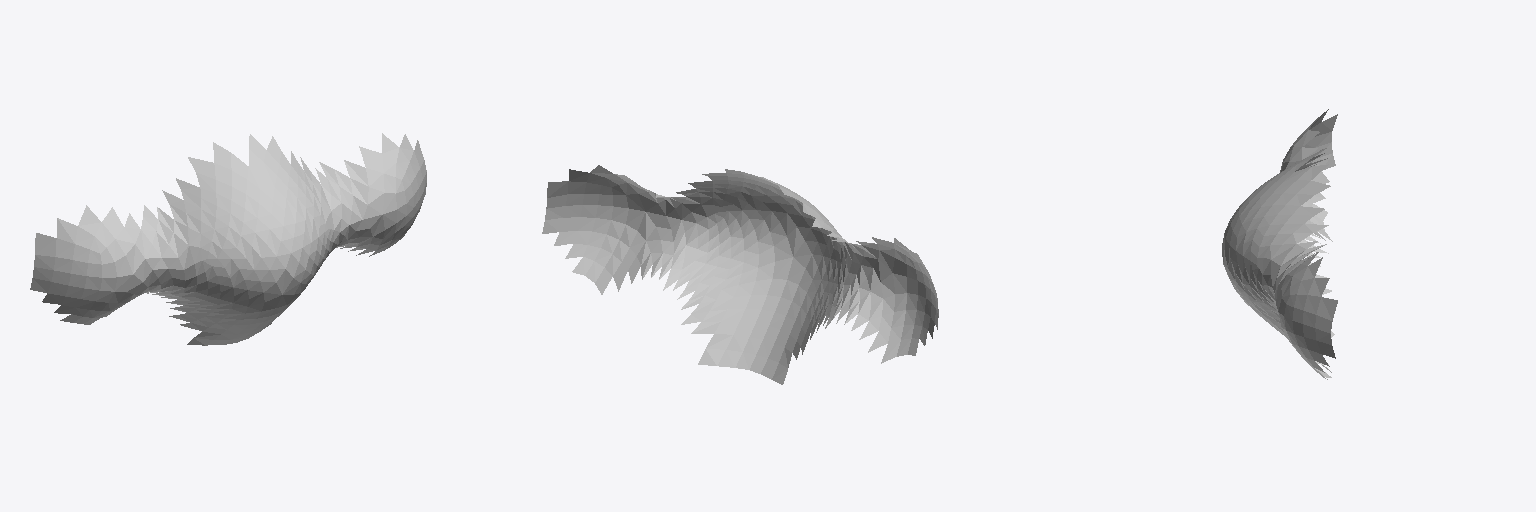
File: blob2_opt_final4_opt.obj
3 renders of one model, left to right at view 1: azimuth 30°, elevation 25°; view 2: azimuth 150°, elevation 25°; view 3: azimuth 270°, elevation 25°, orthographic.
Visible parts, largest first — view 1: [local-path]\Google_Drive\PS_structures\source\samples/blob2_opt; view 2: [local-path]\Google_Drive\PS_structures\source\samples/blob2_opt; view 3: [local-path]\Google_Drive\PS_structures\source\samples/blob2_opt.
Boxes of the visible parts, x1=… form: [local-path]\Google_Drive\PS_structures\source\samples/blob2_opt: x1=30, y1=133, x2=426, y2=345; [local-path]\Google_Drive\PS_structures\source\samples/blob2_opt: x1=542, y1=165, x2=938, y2=384; [local-path]\Google_Drive\PS_structures\source\samples/blob2_opt: x1=1222, y1=109, x2=1337, y2=379.
Bounding box in the file's own units: 39.78 × 19.32 × 10.17.